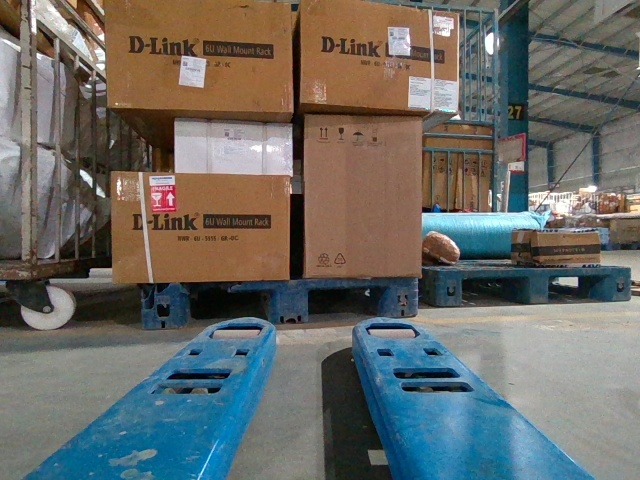pallet: (141, 276, 419, 327)
